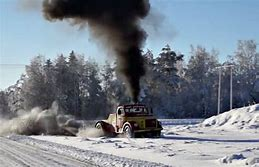smoke: (42, 1, 150, 103)
